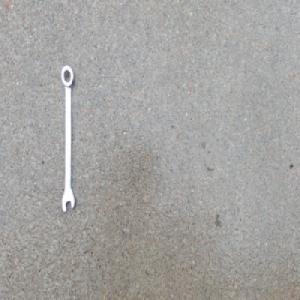Wrench: (60, 64, 76, 214)
